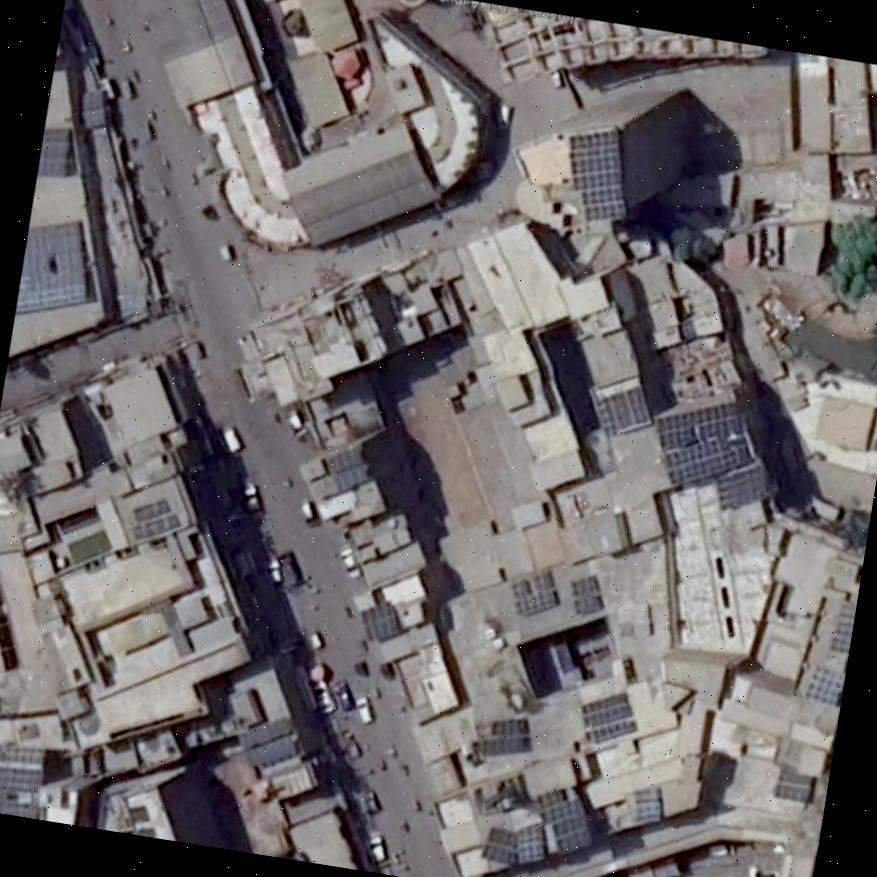Solarpanel: (655, 398, 751, 487), (15, 214, 88, 317), (568, 123, 625, 220), (537, 784, 593, 854), (235, 721, 293, 770), (579, 692, 634, 742), (0, 743, 47, 799), (598, 381, 649, 432), (475, 718, 530, 757), (508, 572, 558, 614), (773, 765, 814, 806), (37, 125, 67, 176), (803, 669, 845, 704), (481, 827, 518, 866), (830, 599, 856, 653), (570, 576, 605, 615), (362, 602, 399, 638), (515, 822, 547, 863), (0, 794, 41, 817), (633, 787, 661, 818)
